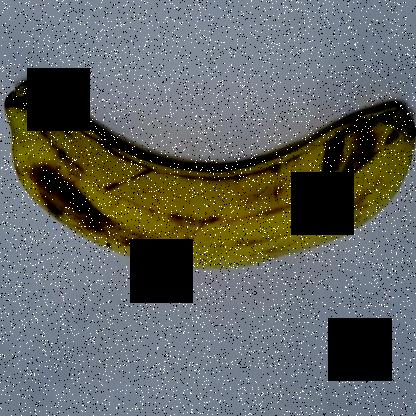overripe: (3, 51, 415, 281)
